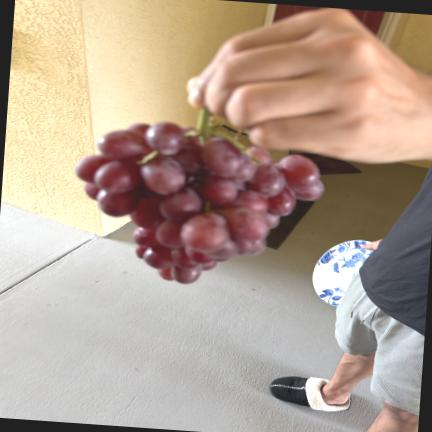grape_cluster: (75, 111, 324, 283)
